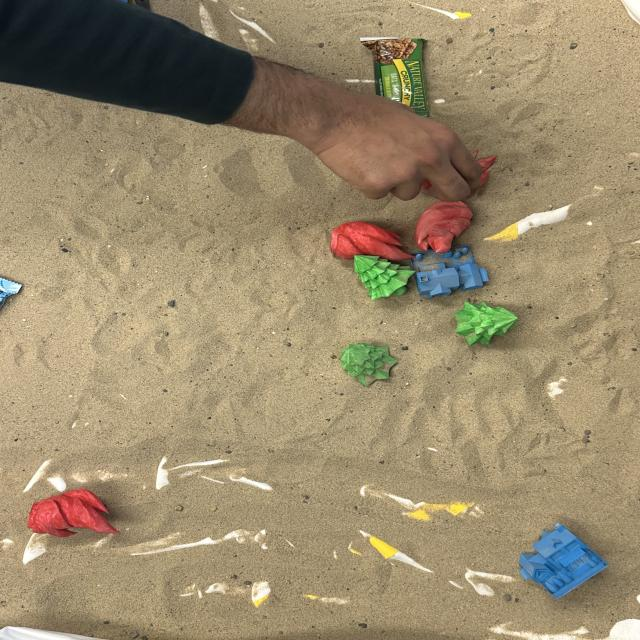fire: (31, 489, 119, 538), (330, 220, 418, 262), (418, 199, 470, 249)
house: (520, 523, 609, 600), (412, 244, 490, 299)
tree: (352, 254, 416, 300), (454, 301, 519, 344), (341, 342, 399, 388)
